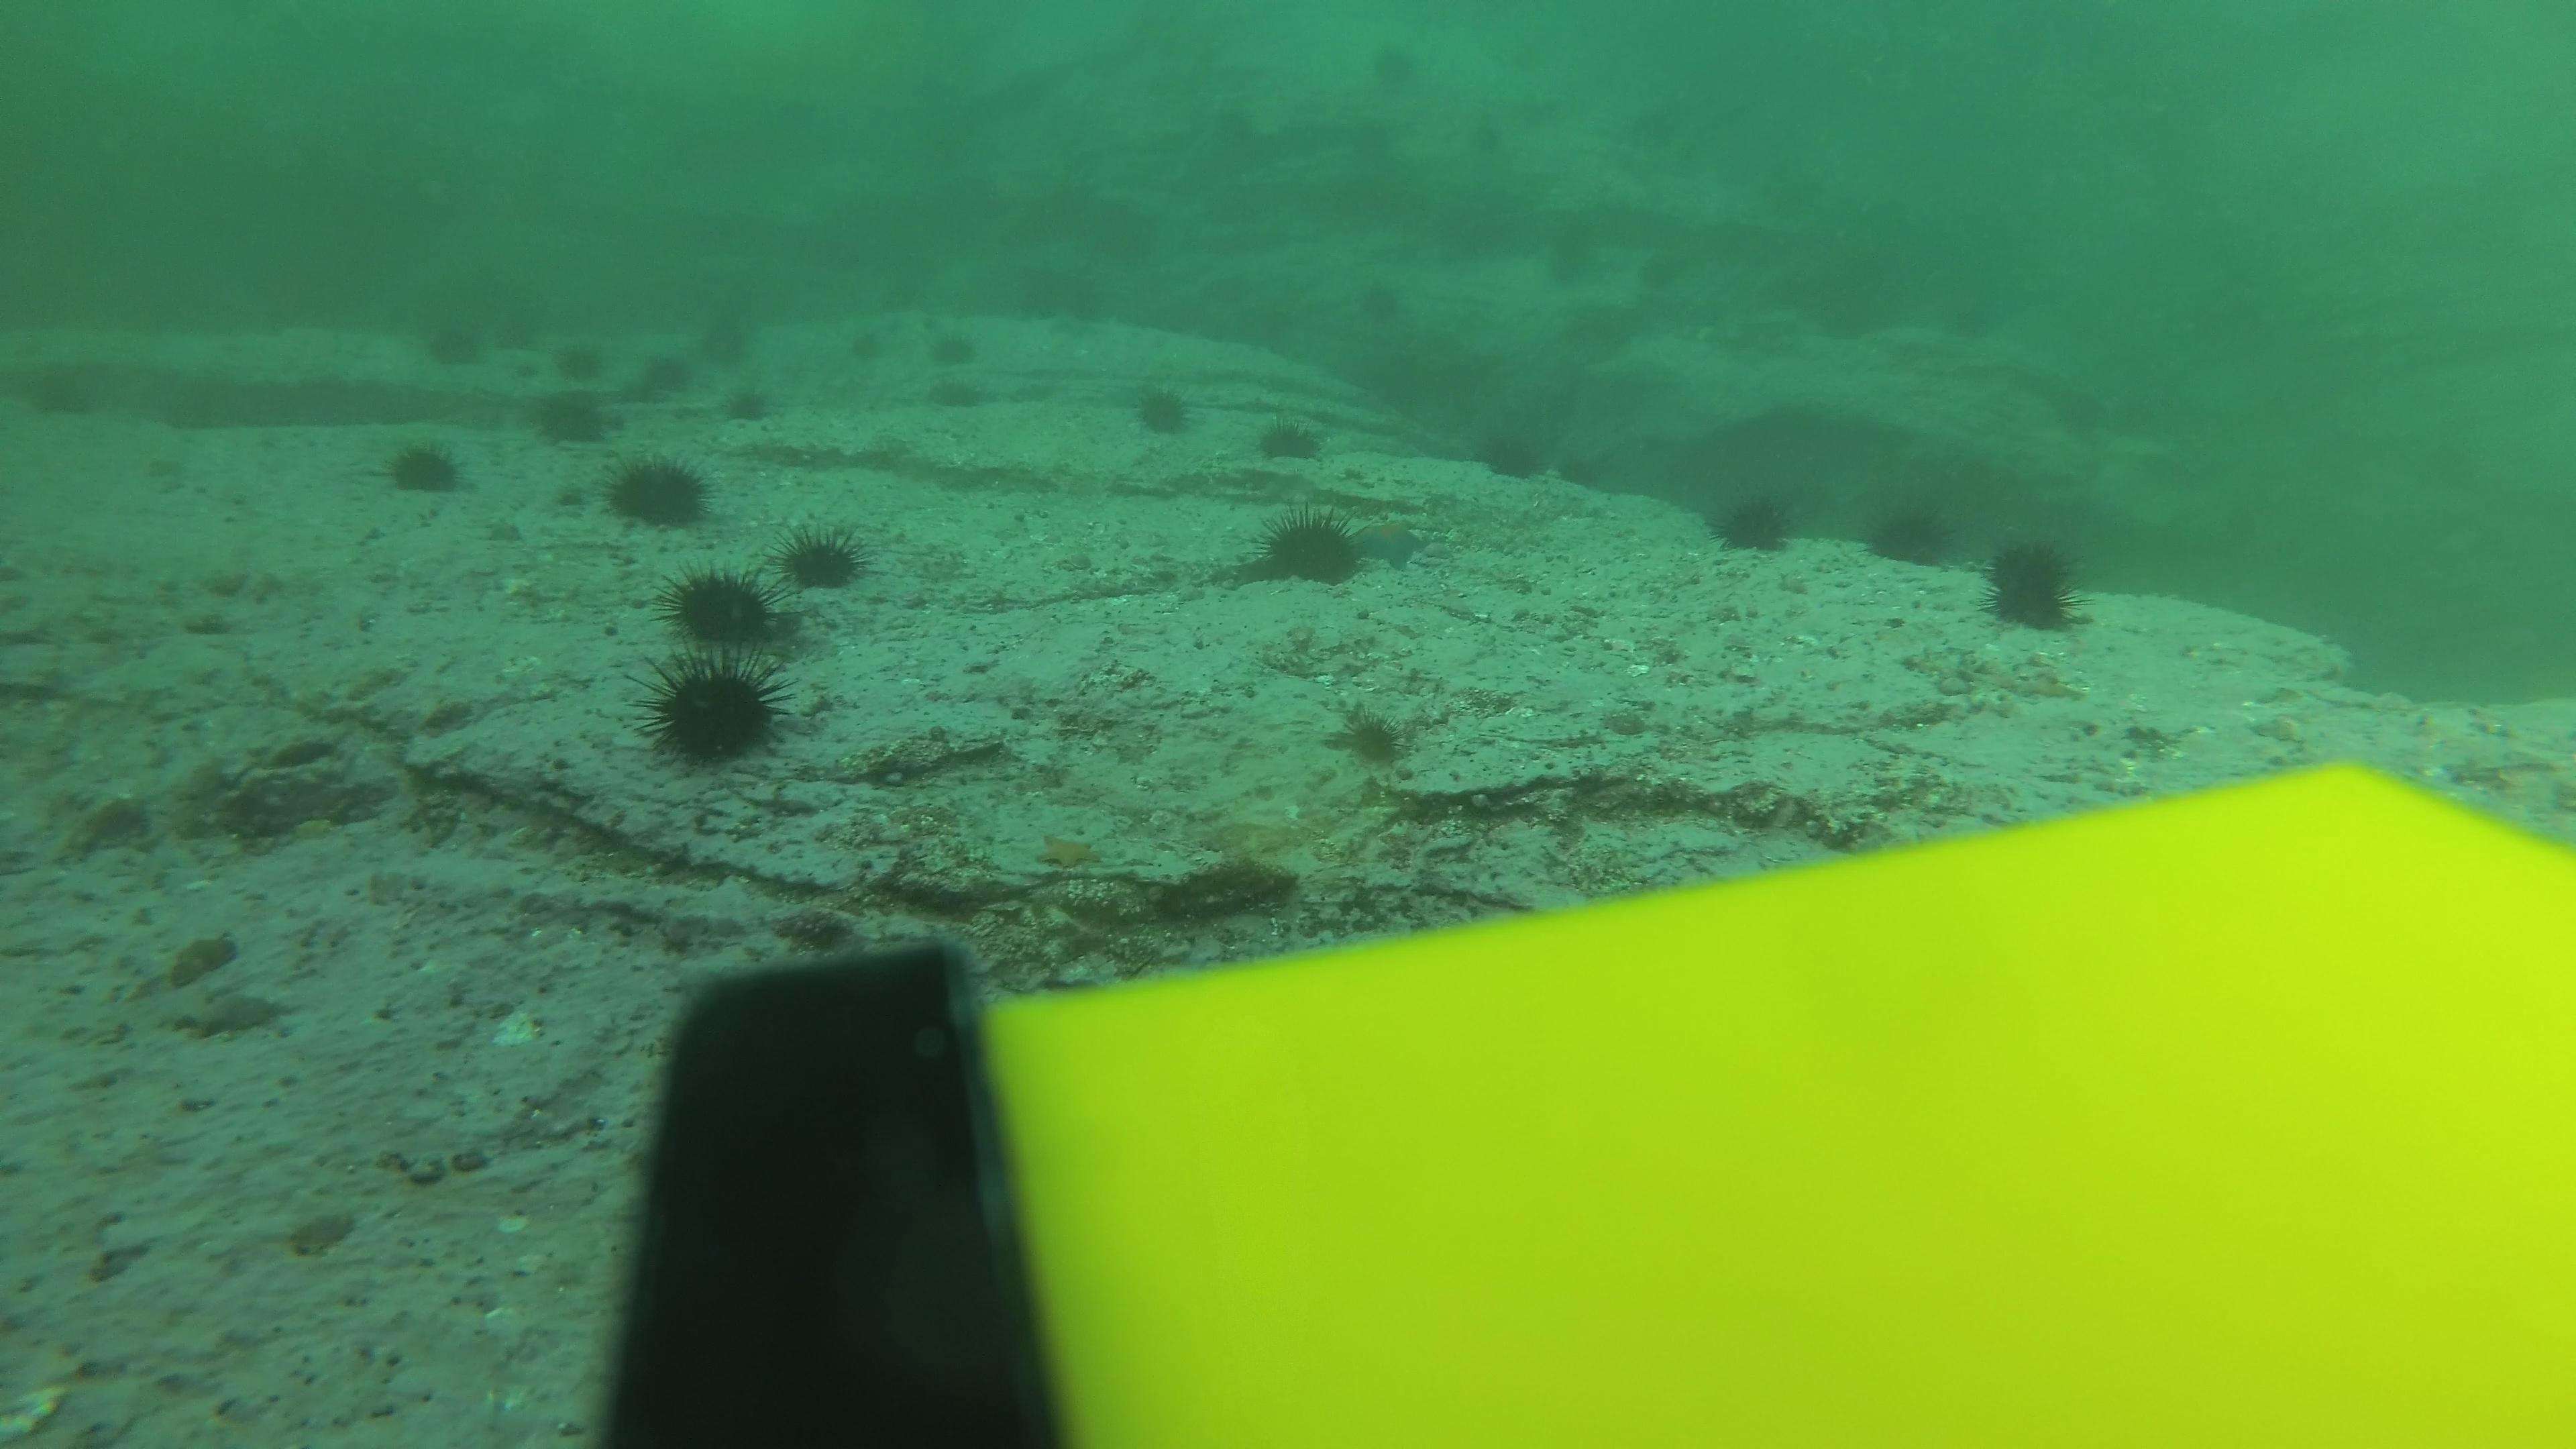echinus: (639, 651, 791, 775), (1244, 502, 1375, 598), (662, 561, 793, 656), (600, 448, 715, 536), (1859, 494, 1959, 575), (1702, 483, 1801, 563), (777, 518, 872, 596), (375, 432, 471, 506), (1982, 538, 2088, 602), (1974, 575, 2079, 639), (529, 380, 619, 453), (614, 341, 704, 414), (702, 357, 793, 430), (1470, 419, 1553, 487), (1122, 375, 1201, 444), (690, 311, 761, 377), (419, 326, 490, 380), (556, 338, 619, 398), (918, 318, 984, 372), (924, 357, 989, 410), (1346, 108, 1412, 161), (1536, 230, 1601, 283), (1803, 288, 1868, 341), (1944, 294, 2010, 347), (474, 311, 543, 361), (1258, 414, 1322, 467), (835, 318, 901, 370), (1353, 258, 1419, 310), (1345, 717, 1410, 768), (1454, 103, 1520, 154), (1628, 242, 1693, 294), (1610, 99, 1674, 150), (1369, 48, 1433, 99)
starfish: (1343, 513, 1433, 575), (1033, 824, 1104, 878)
